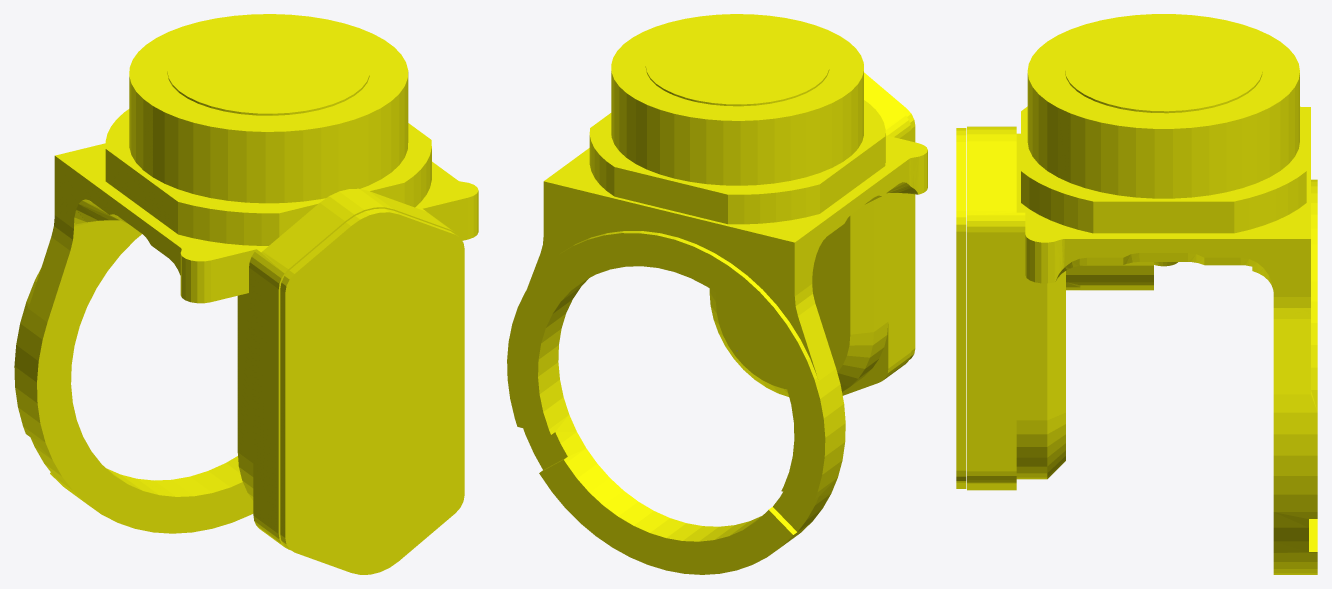
The picture shows the model from 3 angles, left to right: view 1: azimuth 30°, elevation 25°; view 2: azimuth 150°, elevation 25°; view 3: azimuth 270°, elevation 25°; orthographic projection. The views are drawn at different scales.
Parts seen in each view (by area): view 1: node; view 2: node; view 3: node.
Boxes of the visible parts, bbox=[...] form: node: bbox=[14, 14, 478, 574]; node: bbox=[507, 14, 927, 574]; node: bbox=[956, 14, 1317, 574].
Size of the model in its own units: 180 by 244 by 164.
